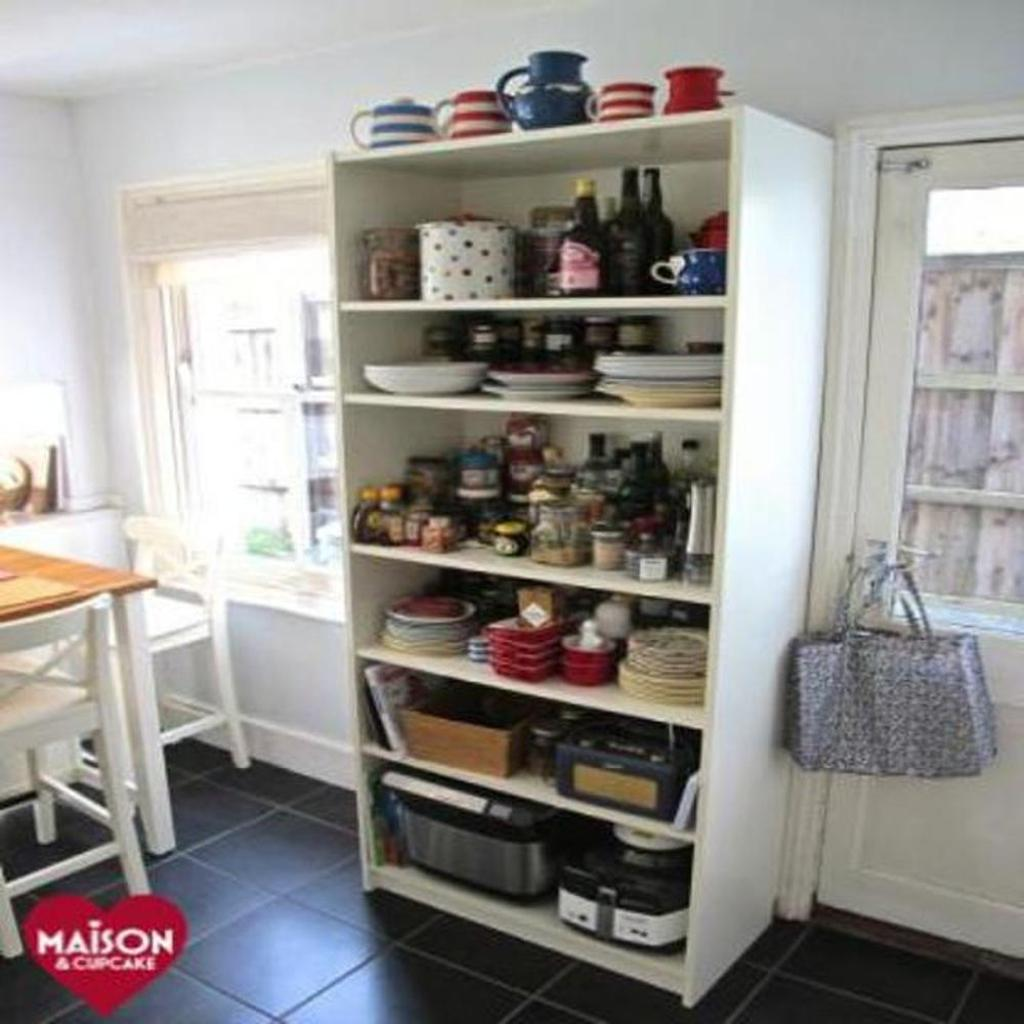lamp: (318, 103, 842, 1007)
